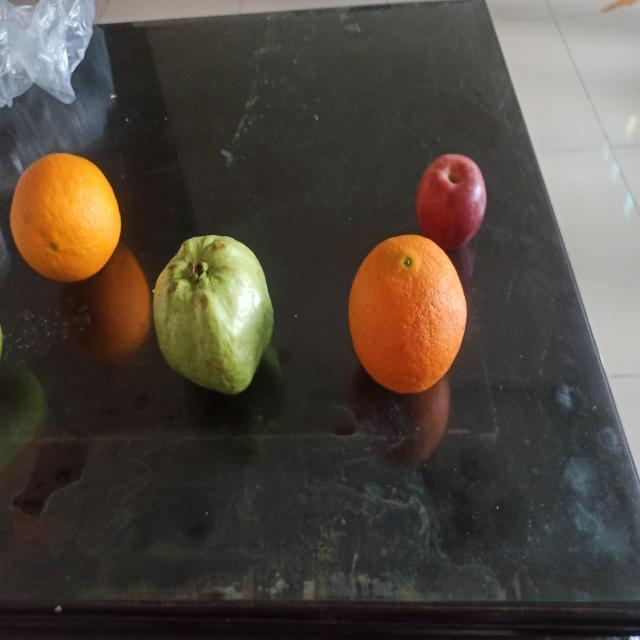apple: (416, 152, 488, 249)
